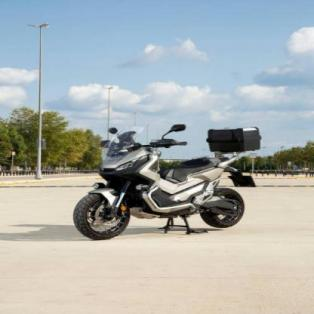Motocicleta: (72, 115, 262, 241)
